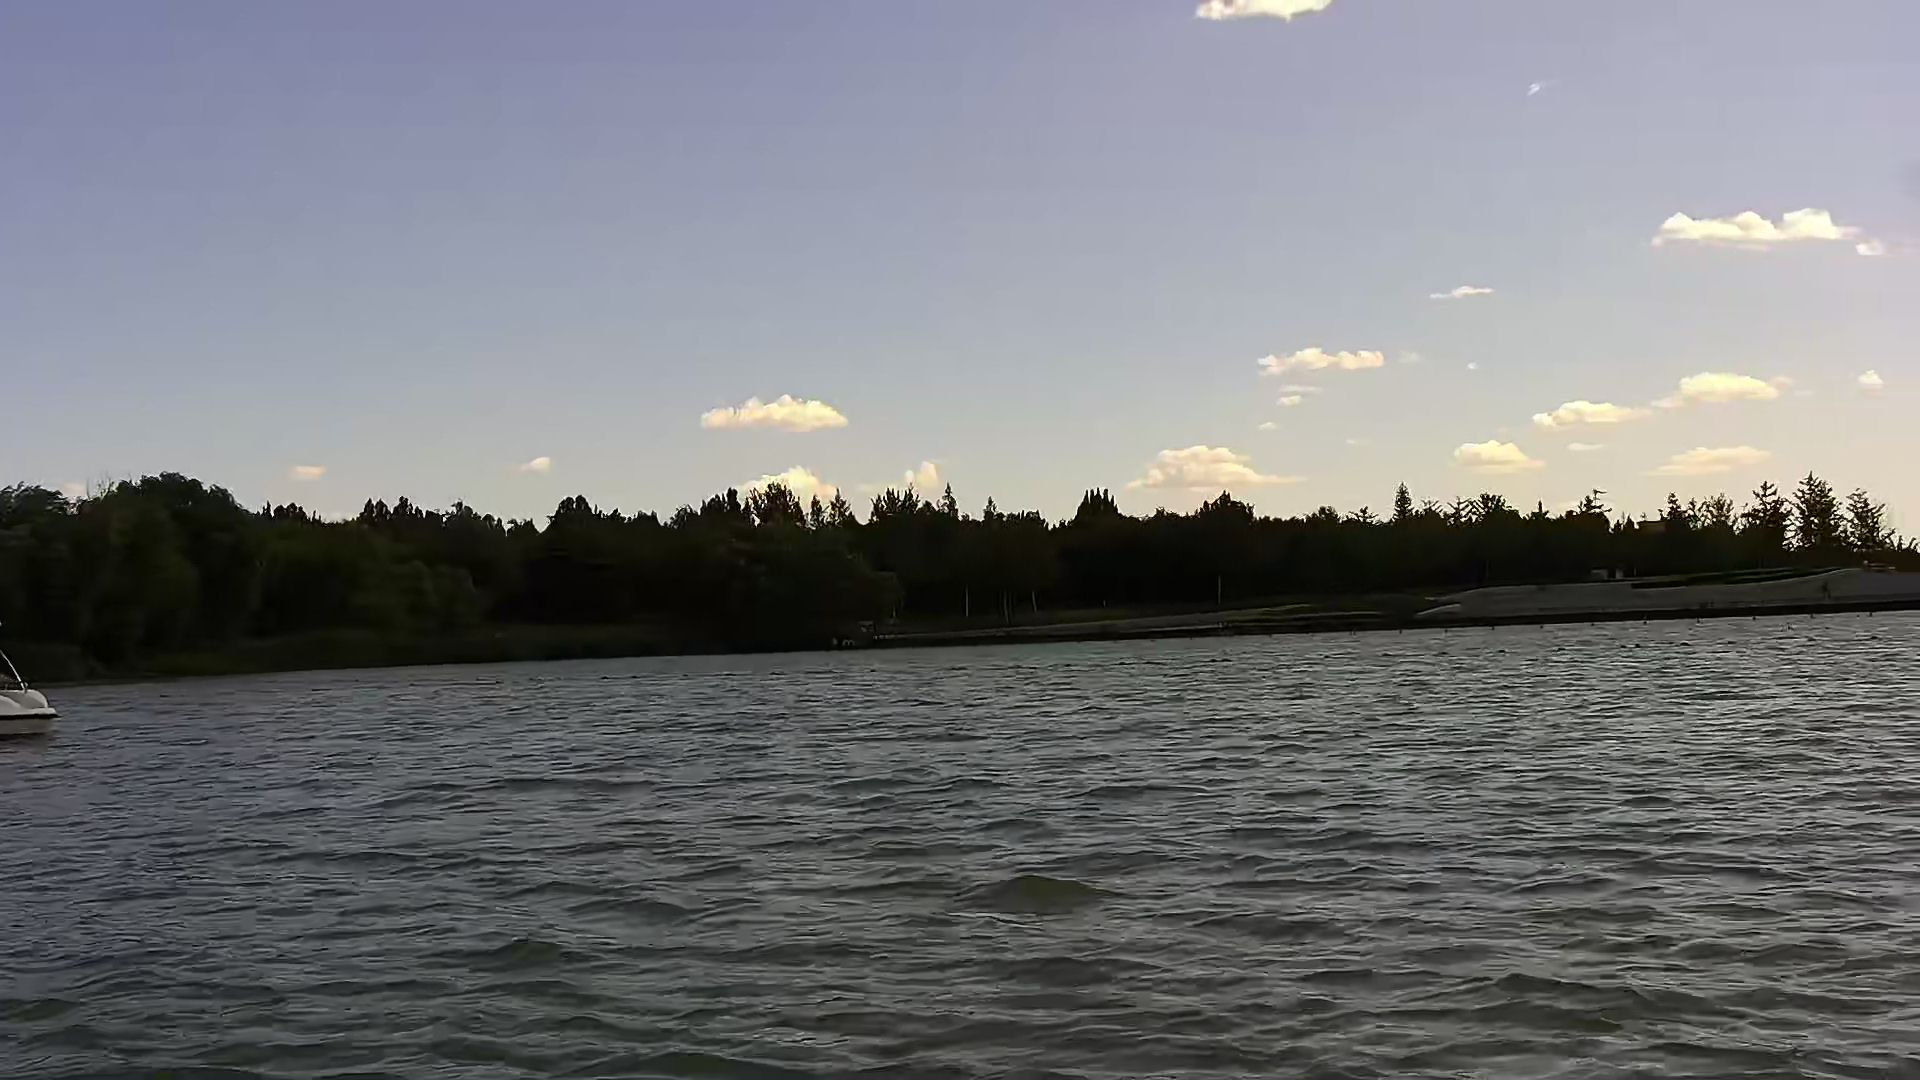harbor: (861, 556, 1920, 655)
